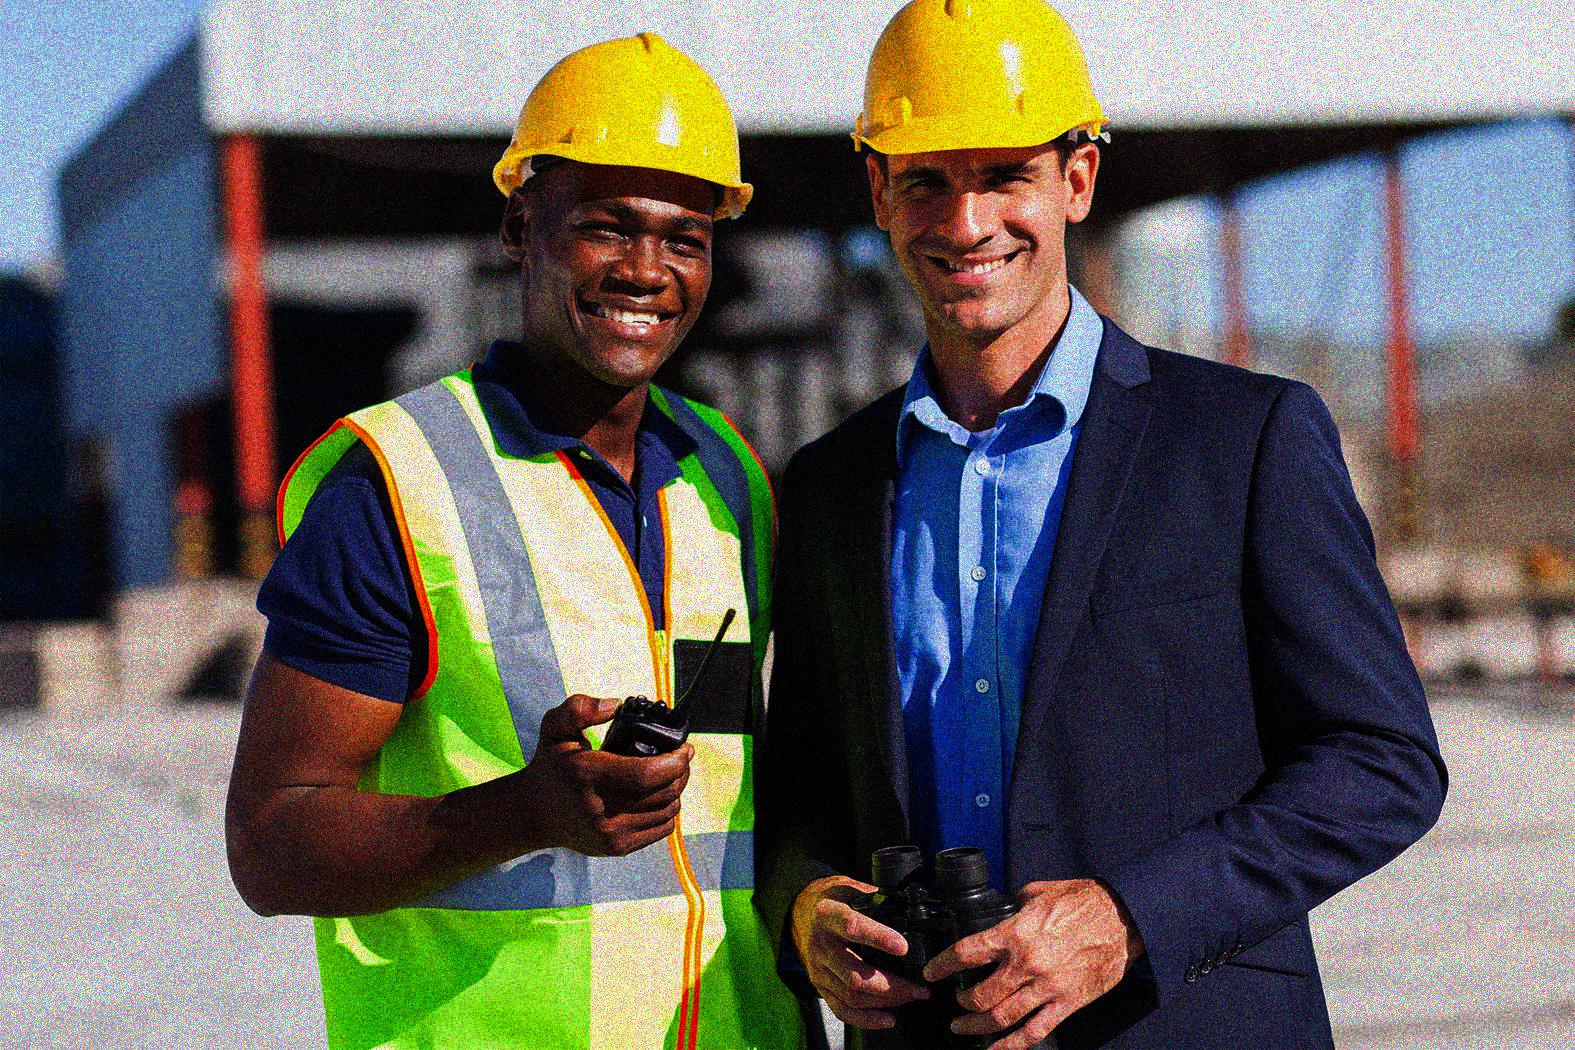helmet: (487, 28, 762, 387), (851, 1, 1111, 341)
